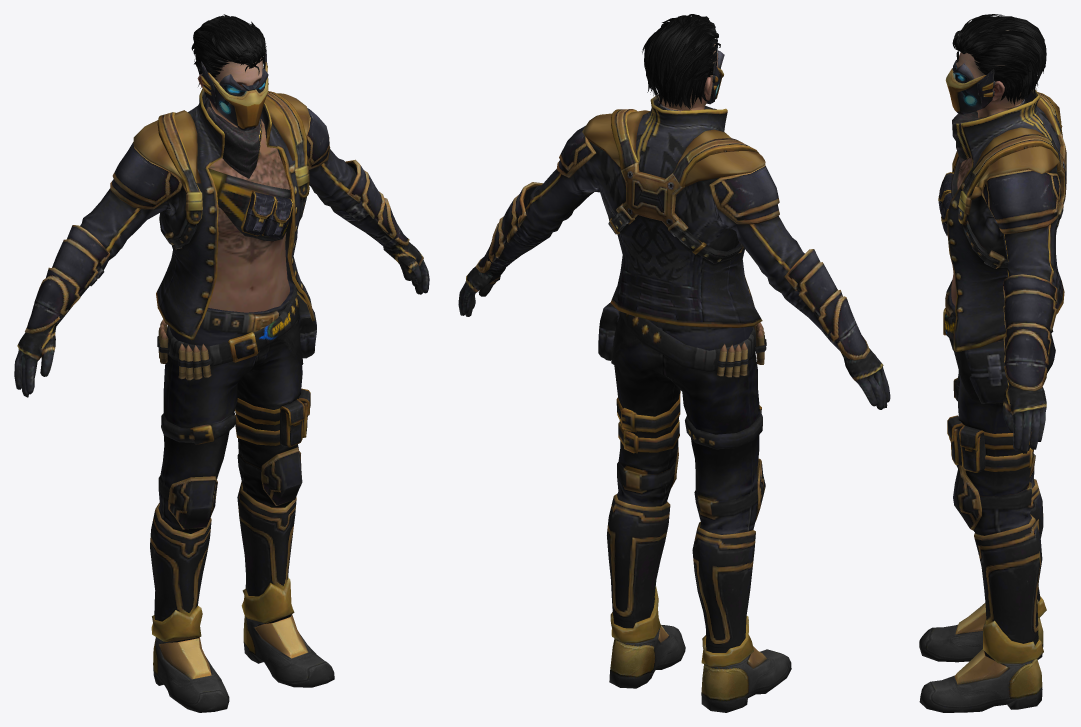
Rendered from age_of_gold.obj.
The picture shows the model from 3 angles, left to right: view 1: azimuth 30°, elevation 25°; view 2: azimuth 150°, elevation 25°; view 3: azimuth 270°, elevation 25°; orthographic projection.
Parts seen in each view (by area): view 1: Age_Of_Gold_Mesh_0014.rip_mesh0000; view 2: Age_Of_Gold_Mesh_0014.rip_mesh0000; view 3: Age_Of_Gold_Mesh_0014.rip_mesh0000.
Boxes of the visible parts, bbox=[...] form: Age_Of_Gold_Mesh_0014.rip_mesh0000: bbox=[14, 14, 429, 712]; Age_Of_Gold_Mesh_0014.rip_mesh0000: bbox=[458, 14, 890, 712]; Age_Of_Gold_Mesh_0014.rip_mesh0000: bbox=[919, 14, 1066, 712].
Size of the model in its own units: 0.583 by 0.8858 by 0.1784.
